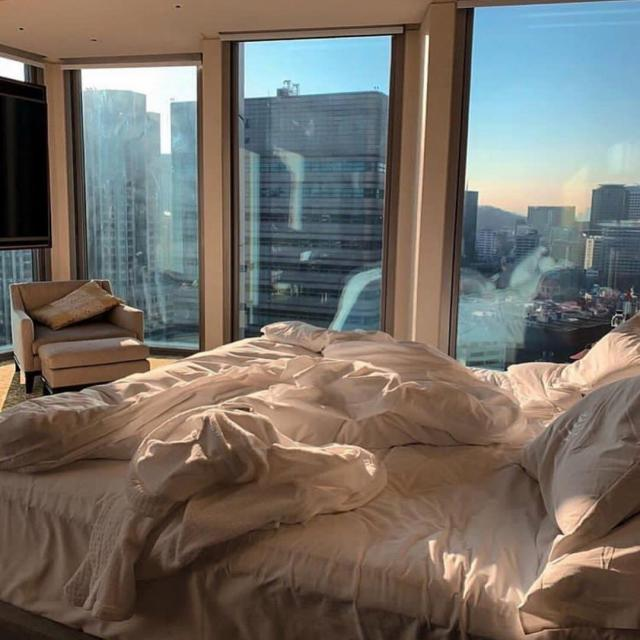bed: (3, 307, 640, 640)
